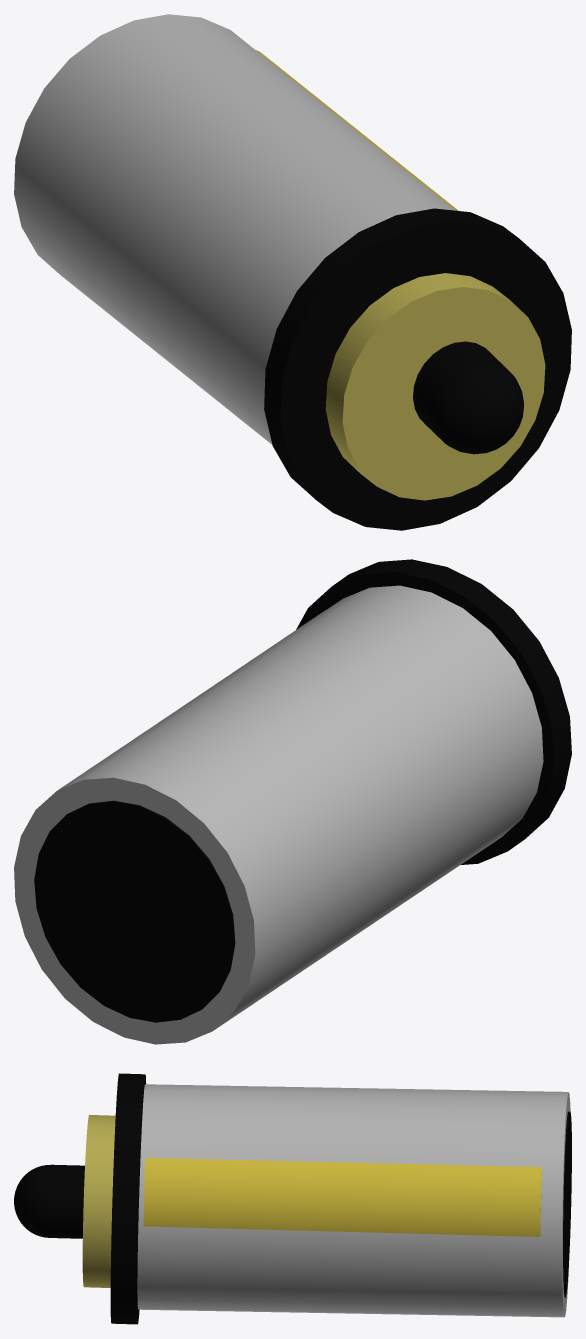
File: word puzzle lock without word cylanders opened version.fbx
3 views of the same model, one above another, from view 1: azimuth 30°, elevation 25°; view 2: azimuth 150°, elevation 25°; view 3: azimuth 270°, elevation 25° (orthographic). The views are drawn at different scales.
Visible parts, largest first — view 1: 069cb8e3-326d-4e61-bf60-8409c1099f1e; view 2: 069cb8e3-326d-4e61-bf60-8409c1099f1e; view 3: 069cb8e3-326d-4e61-bf60-8409c1099f1e.
Boxes of the visible parts, x1,y1,x2,y2 form: 069cb8e3-326d-4e61-bf60-8409c1099f1e: [14, 14, 571, 530]; 069cb8e3-326d-4e61-bf60-8409c1099f1e: [14, 559, 571, 1044]; 069cb8e3-326d-4e61-bf60-8409c1099f1e: [14, 1073, 571, 1324].
Bounding box in the file's own units: 12790 × 12673 × 28189.
